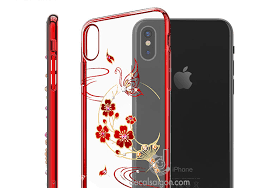iphone: (131, 15, 237, 188)
